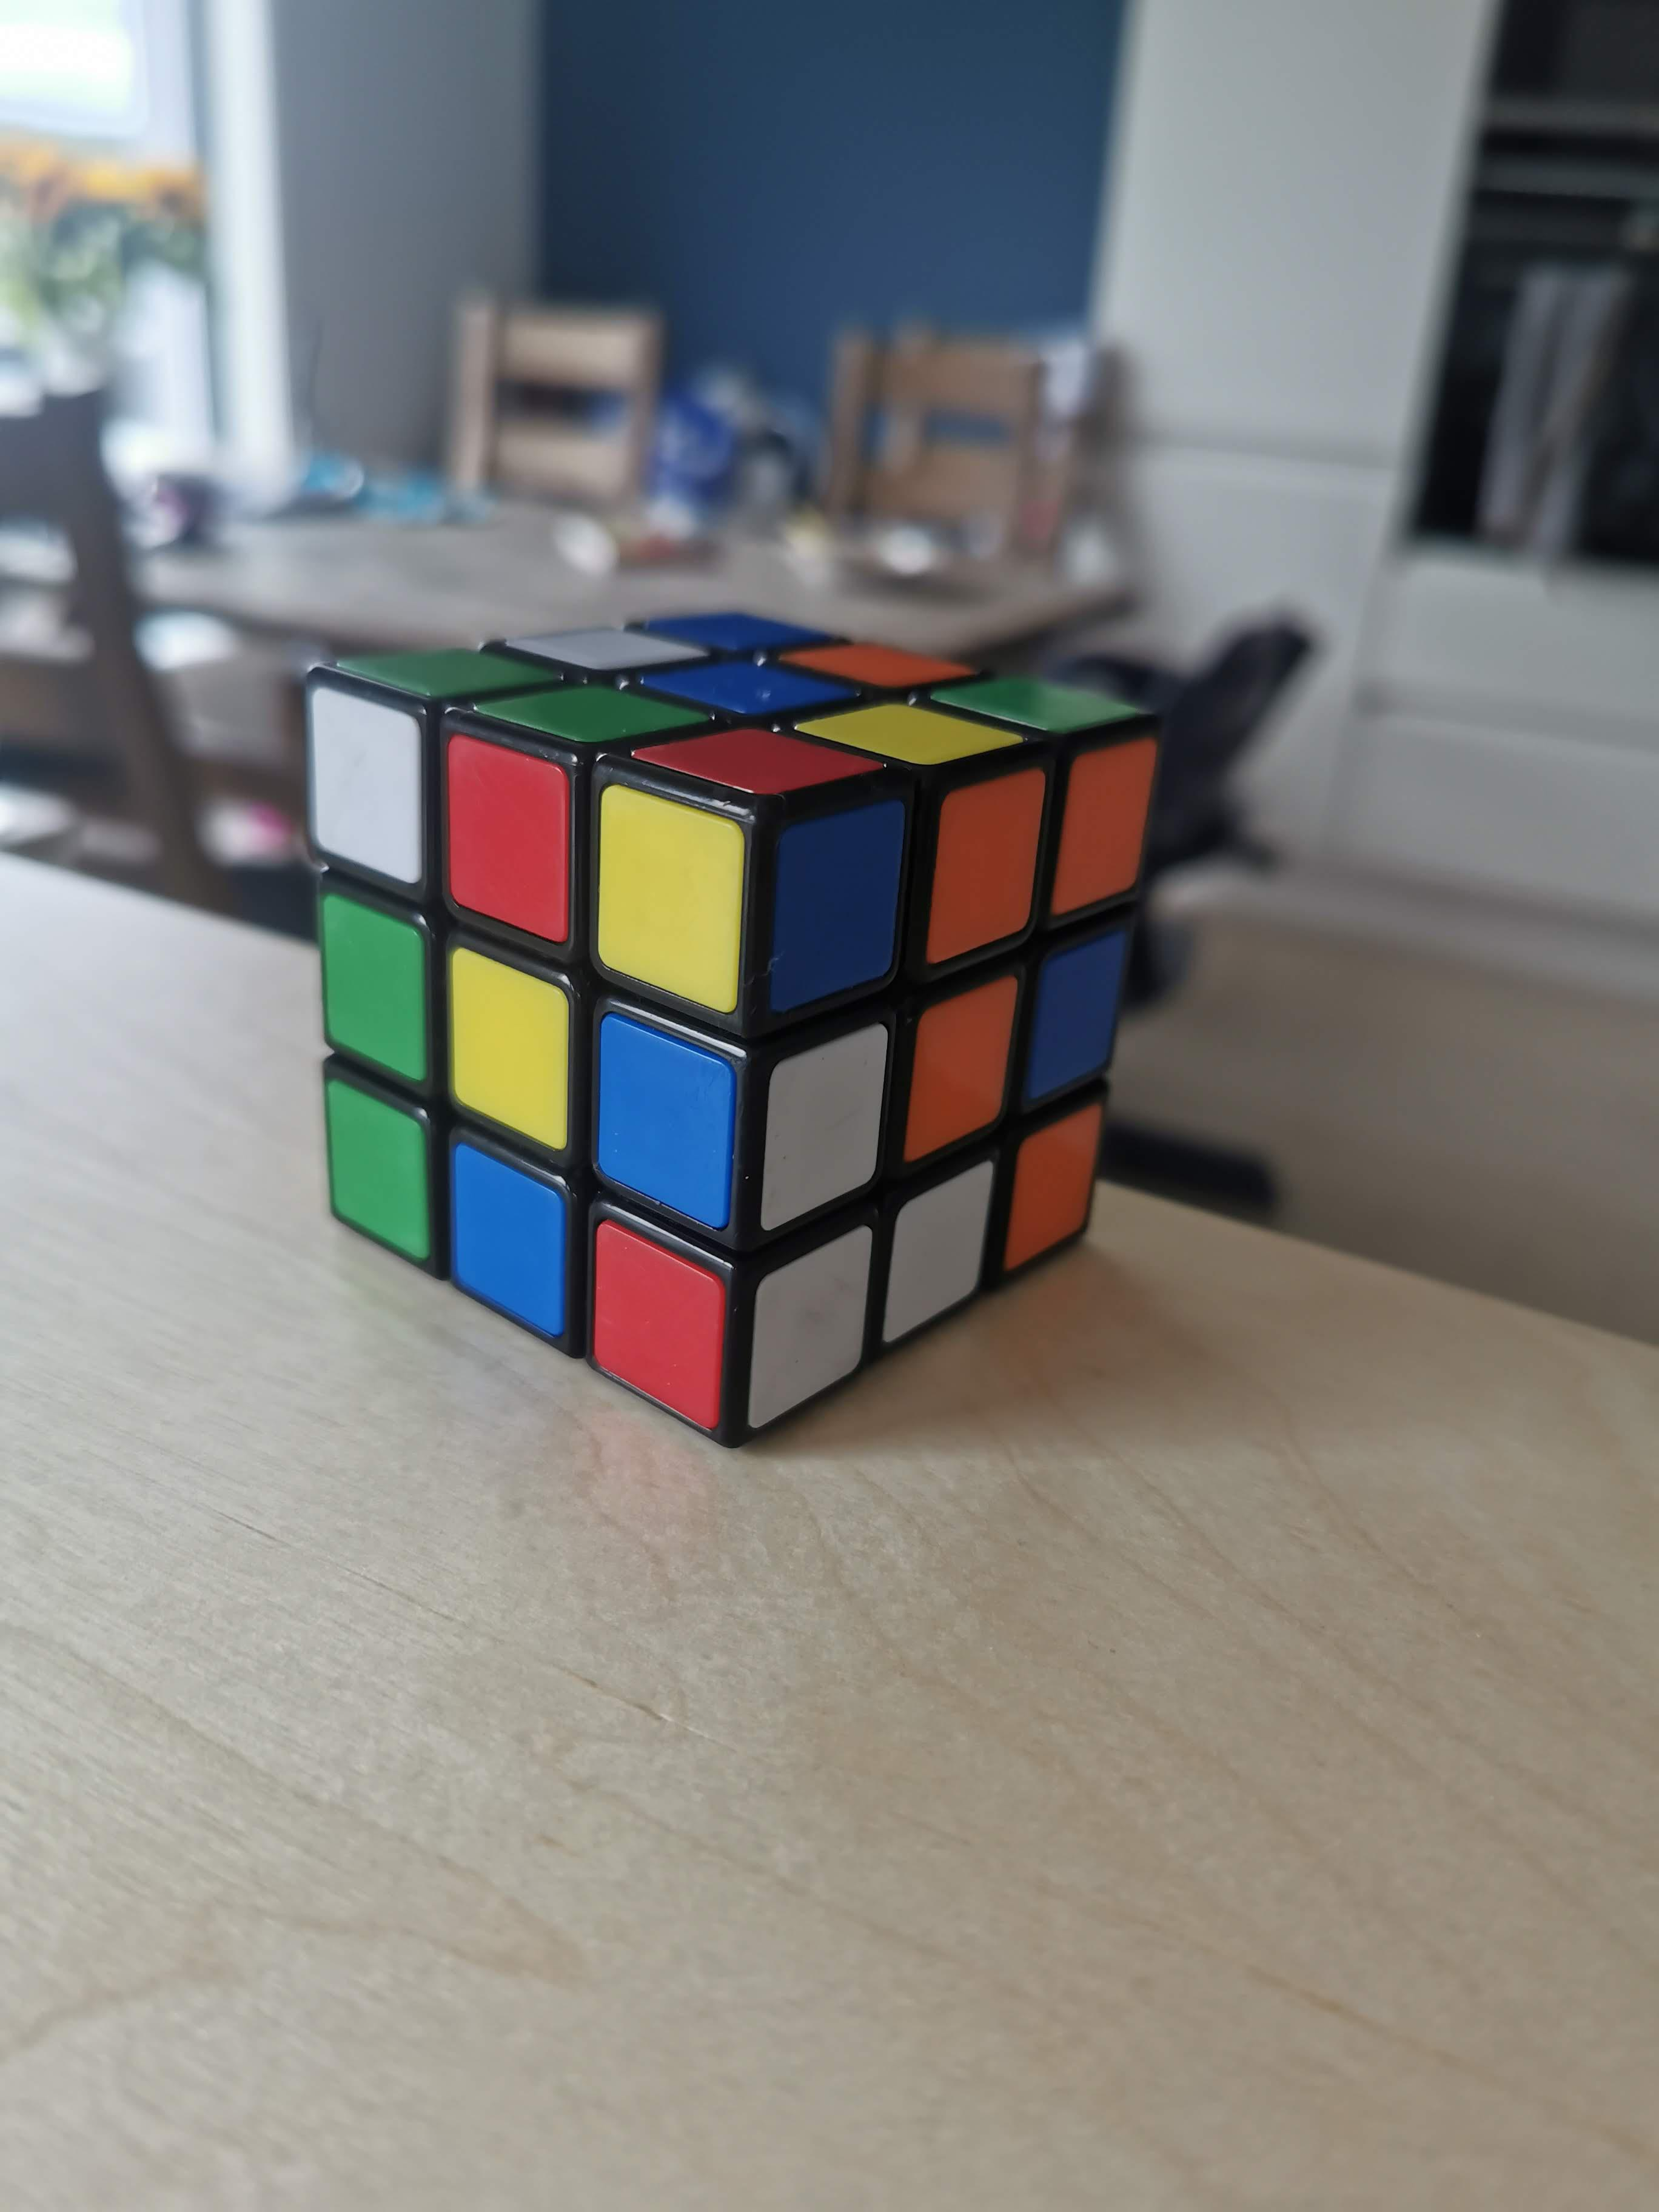cube: (300, 611, 1183, 1453)
